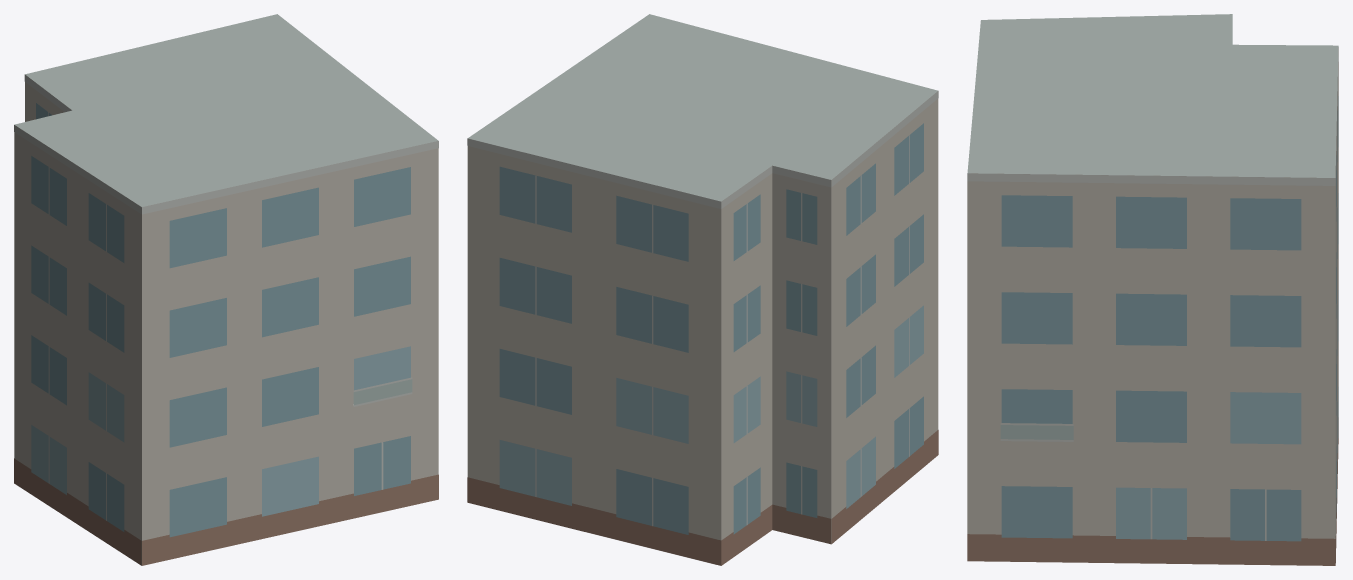
The model's file is survey-upis-32958672.glb.
3 renders of one model, left to right at view 1: azimuth 30°, elevation 25°; view 2: azimuth 150°, elevation 25°; view 3: azimuth 270°, elevation 25°, orthographic. The views are drawn at different scales.
Visible parts, largest first — view 1: survey-upis-32958672.tmp; view 2: survey-upis-32958672.tmp; view 3: survey-upis-32958672.tmp.
Part boxes in pixels (bbox=[...]): survey-upis-32958672.tmp: bbox=[14, 14, 438, 565]; survey-upis-32958672.tmp: bbox=[467, 14, 938, 565]; survey-upis-32958672.tmp: bbox=[967, 14, 1338, 565].
Bounding box in the file's own units: 10.78 × 11.88 × 10.31.
